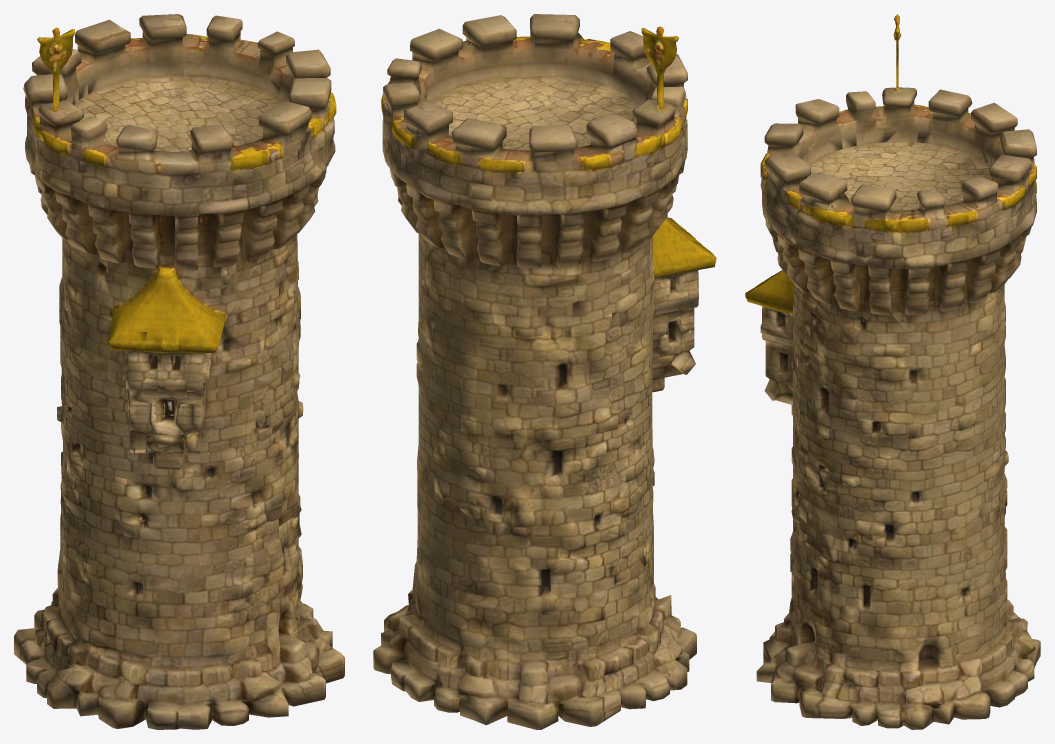
File: torre_tripo.glb
3 renders of one model, left to right at view 1: azimuth 30°, elevation 25°; view 2: azimuth 150°, elevation 25°; view 3: azimuth 270°, elevation 25°, orthographic. The views are drawn at different scales.
Parts seen in each view (by area): view 1: tripo_node_1802ea18-62e2-481a-9890-aa0b486e4ade; view 2: tripo_node_1802ea18-62e2-481a-9890-aa0b486e4ade; view 3: tripo_node_1802ea18-62e2-481a-9890-aa0b486e4ade.
Boxes of the visible parts, box(x1,y1,x2,y2) form: tripo_node_1802ea18-62e2-481a-9890-aa0b486e4ade: box(14, 14, 344, 729); tripo_node_1802ea18-62e2-481a-9890-aa0b486e4ade: box(373, 14, 716, 729); tripo_node_1802ea18-62e2-481a-9890-aa0b486e4ade: box(745, 14, 1040, 729).
Bounding box in the file's own units: 0.434 × 0.977 × 0.4379.
Materials: 1 (1 with a texture image).
